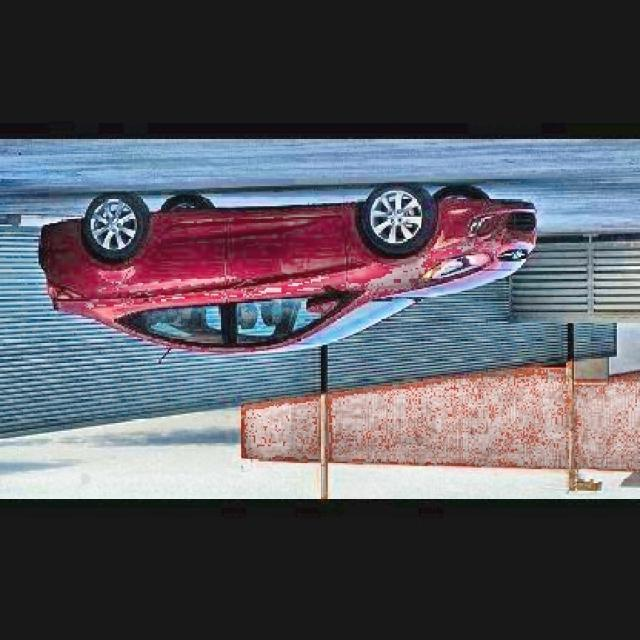maroon: (44, 187, 542, 359)
